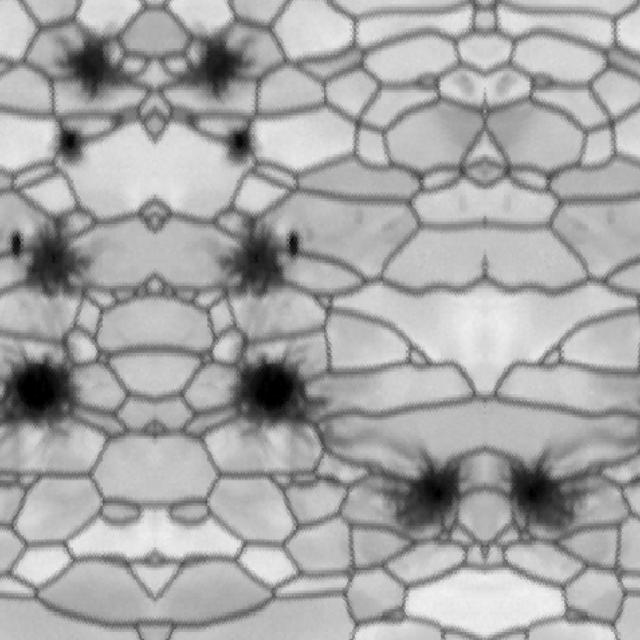good_void: (208, 341, 337, 461), (364, 443, 470, 558), (498, 443, 604, 558), (0, 341, 100, 461), (172, 18, 259, 107), (49, 18, 136, 107), (212, 214, 288, 307), (20, 214, 96, 307), (221, 123, 258, 171), (50, 123, 87, 171), (489, 76, 519, 100), (450, 76, 479, 100), (286, 230, 303, 263), (5, 230, 22, 263), (456, 193, 473, 216), (495, 193, 512, 216)
